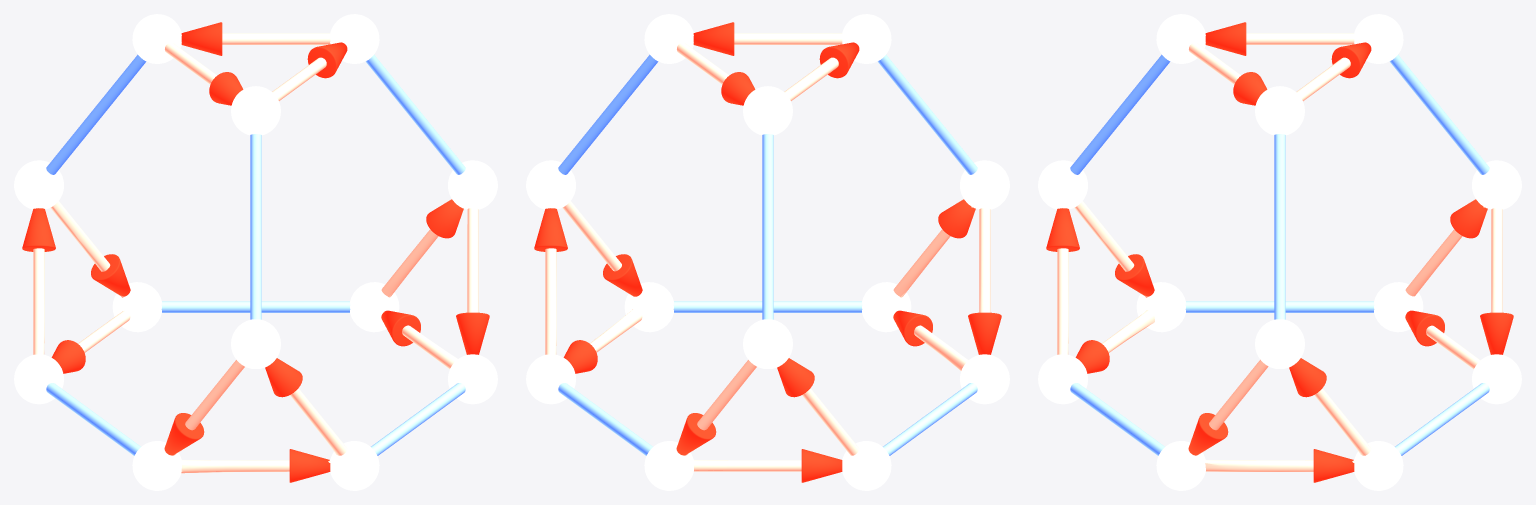
The picture shows the model from 3 angles, left to right: view 1: azimuth 30°, elevation 25°; view 2: azimuth 150°, elevation 25°; view 3: azimuth 270°, elevation 25°; orthographic projection.
Parts seen in each view (by area): view 1: spheres_glb, lines_triangles.002, Cone.010, lines.002; view 2: spheres_glb, lines_triangles.002, Cone.010, lines.002; view 3: spheres_glb, lines_triangles.002, Cone.010, lines.002.
Part boxes in pixels (<box>): spheres_glb: <box>14,14,497,490</box>; lines_triangles.002: <box>33,33,478,473</box>; Cone.010: <box>22,22,489,482</box>; lines.002: <box>46,54,465,455</box>; spheres_glb: <box>526,14,1009,490</box>; lines_triangles.002: <box>545,33,990,471</box>; Cone.010: <box>534,22,1001,482</box>; lines.002: <box>558,54,977,455</box>; spheres_glb: <box>1038,14,1521,490</box>; lines_triangles.002: <box>1057,33,1502,471</box>; Cone.010: <box>1046,22,1513,482</box>; lines.002: <box>1070,54,1489,455</box>.
Bounding box in the file's own units: 1.25 × 1.05 × 1.25.
